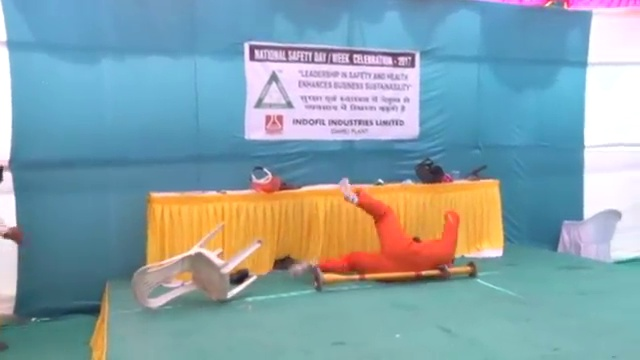person: (285, 183, 462, 277)
